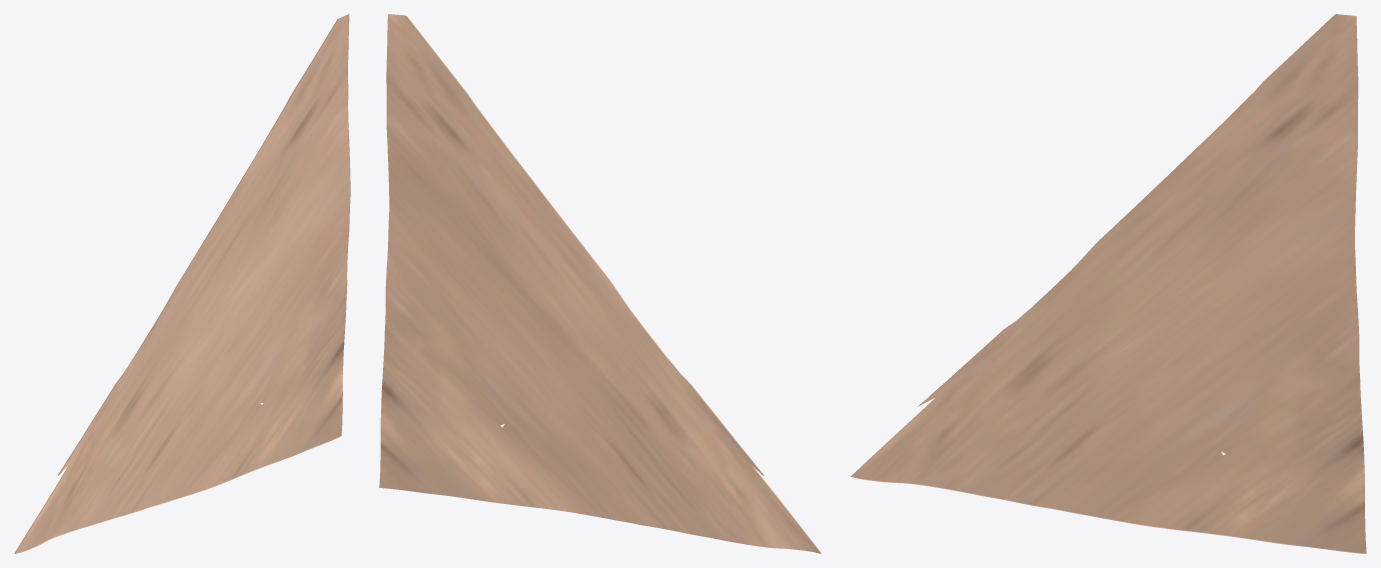
The picture shows the model from 3 angles, left to right: view 1: azimuth 30°, elevation 25°; view 2: azimuth 150°, elevation 25°; view 3: azimuth 330°, elevation 25°; orthographic projection. The views are drawn at different scales.
Size of the model in its own units: 10.95 by 12.25 by 2.07.
Materials: 1 (1 with a texture image).
